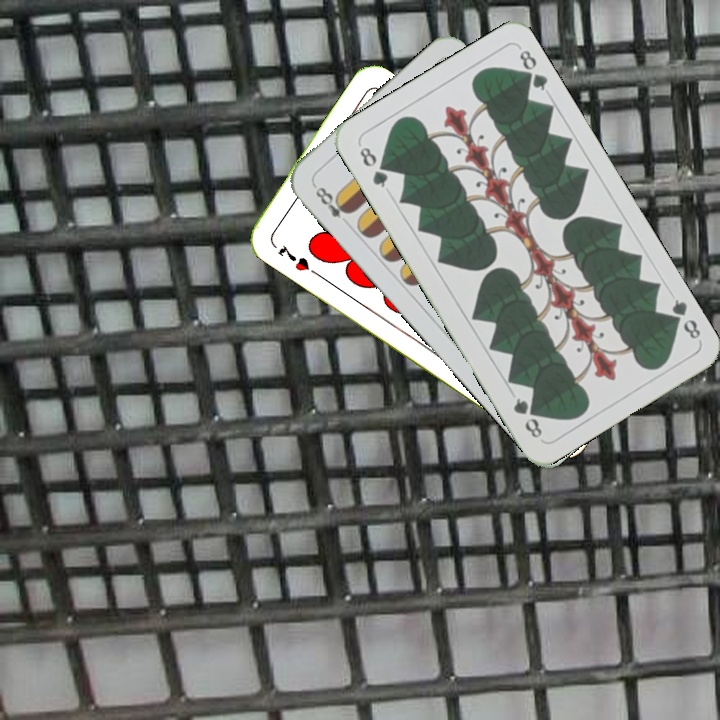E8: (309, 180, 355, 221)
G8: (663, 295, 704, 342), (355, 140, 391, 190)
H7: (274, 240, 312, 274)
